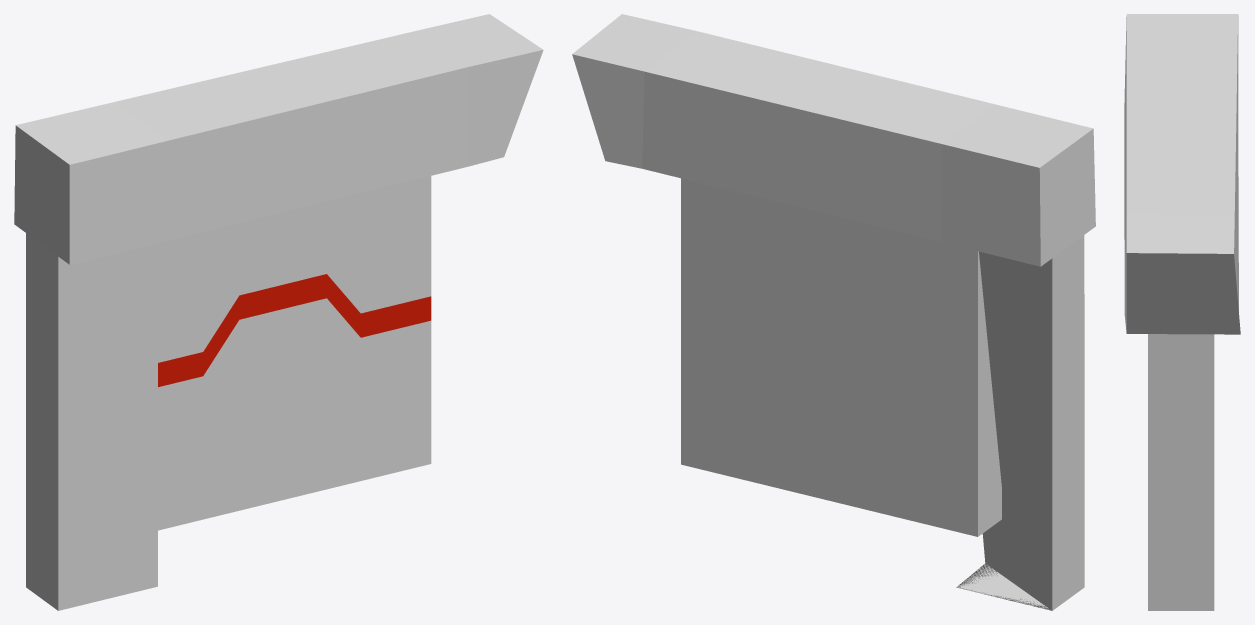
Rendered from Door & door base.fbx.
3 renders of one model, left to right at view 1: azimuth 30°, elevation 25°; view 2: azimuth 150°, elevation 25°; view 3: azimuth 270°, elevation 25°, orthographic. The views are drawn at different scales.
Parts seen in each view (by area): view 1: Door Base, Door; view 2: Door Base, Door; view 3: Door Base, Door.
Boxes of the visible parts, x1,y1,x2,y2 form: Door Base: (14, 14, 543, 610); Door: (158, 176, 431, 530); Door Base: (572, 14, 1095, 610); Door: (681, 178, 1001, 536); Door Base: (1124, 14, 1240, 334); Door: (1148, 334, 1214, 610).
Bounding box in the file's own units: 196 × 179 × 40.44.
